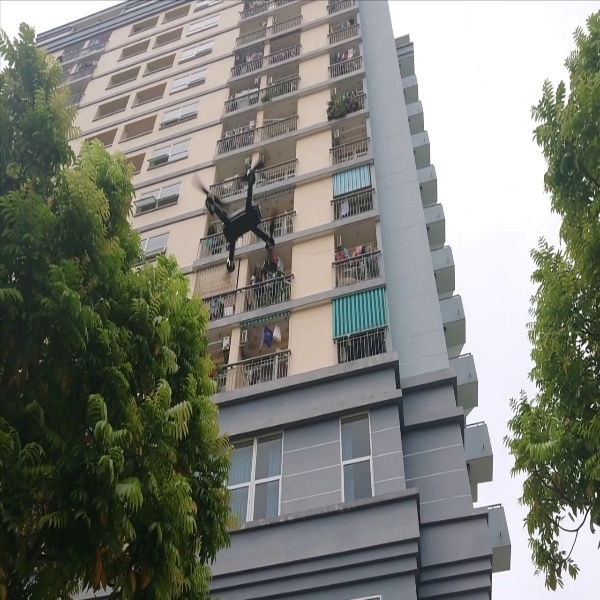drone: (192, 158, 285, 265)
